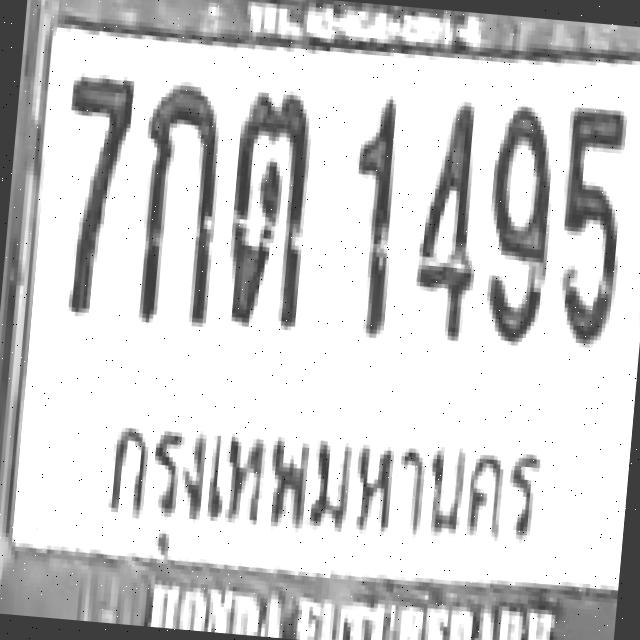1: (339, 96, 402, 334)
10GorGai: (127, 78, 226, 327)
4: (408, 94, 486, 341)
5: (548, 102, 630, 345)
7: (49, 71, 134, 315), (52, 71, 134, 293), (56, 71, 134, 242)
9: (478, 100, 558, 344)
Bangkok: (86, 388, 559, 586)
